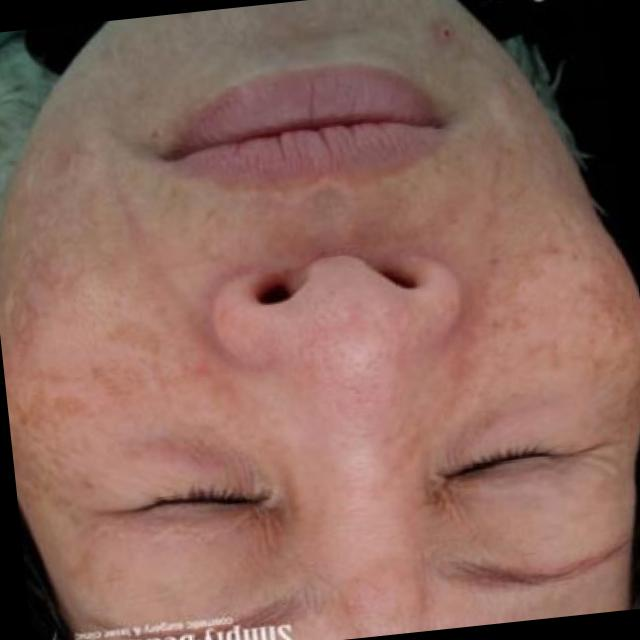melasma: (5, 102, 248, 492), (468, 94, 624, 428)
